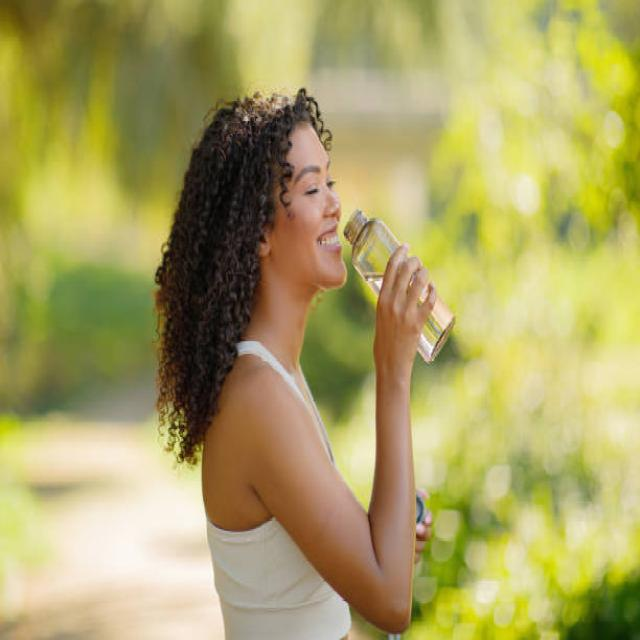Bottle: (345, 210, 399, 295)
